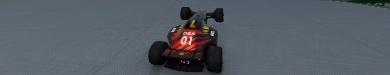Car: (147, 6, 224, 72)
